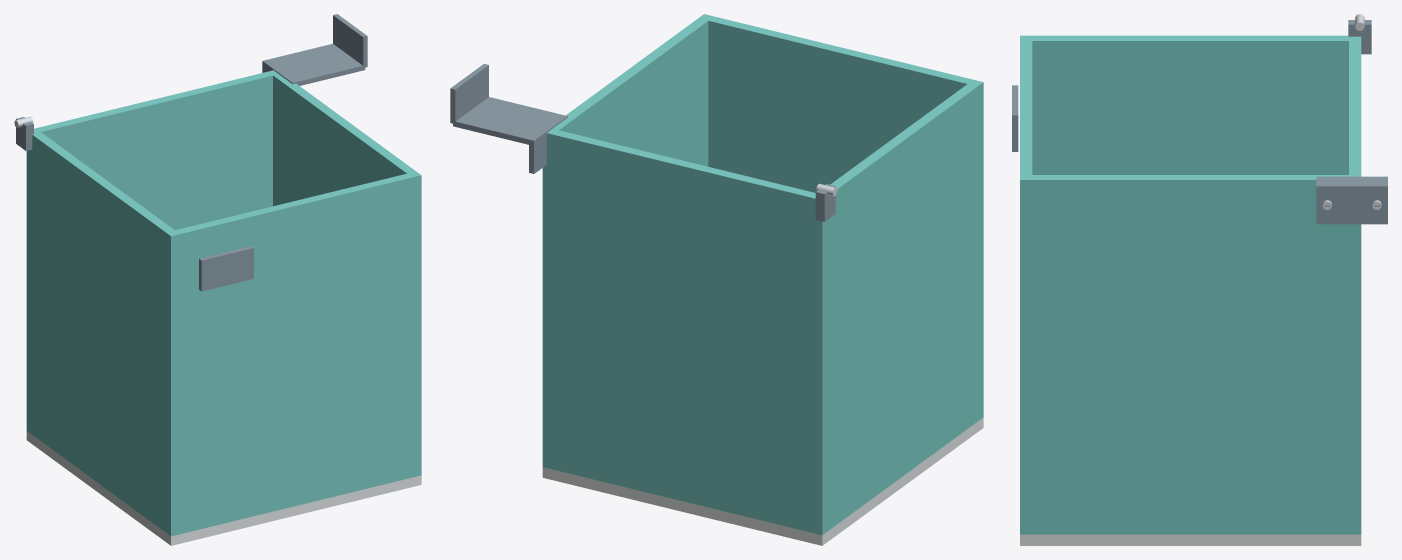
The model's file is bin.glb.
3 renders of one model, left to right at view 1: azimuth 30°, elevation 25°; view 2: azimuth 150°, elevation 25°; view 3: azimuth 270°, elevation 25°, orthographic. The views are drawn at different scales.
Bounding box in the file's own units: 0.2951 × 0.285 × 0.242.
